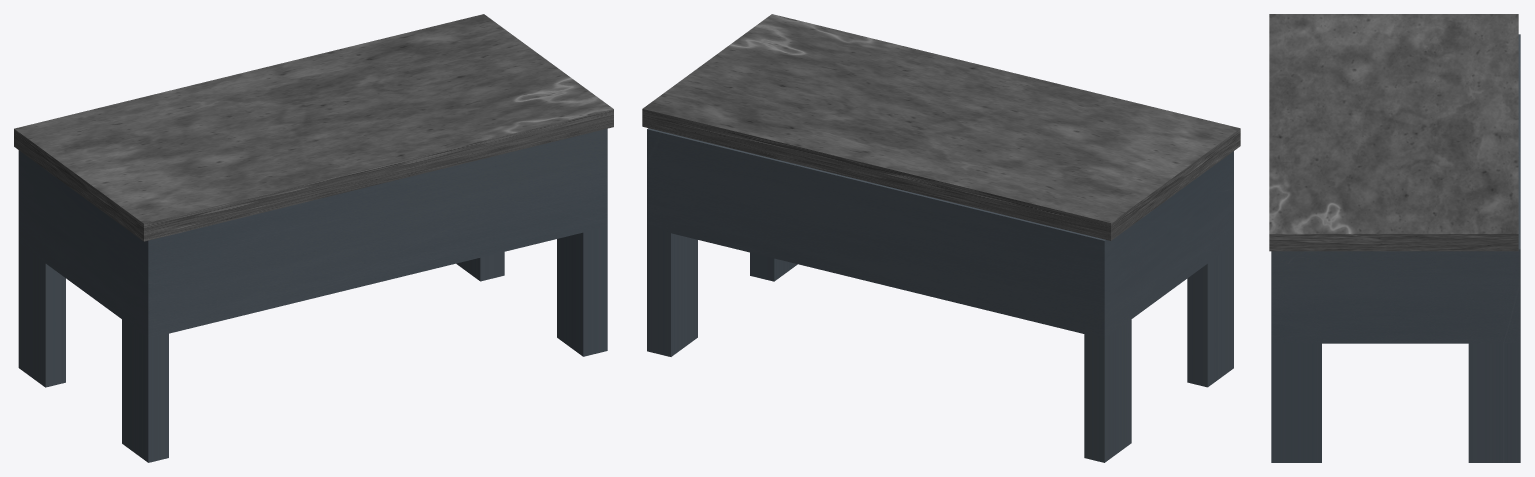
Rendered from comal-memelas.glb.
3 renders of one model, left to right at view 1: azimuth 30°, elevation 25°; view 2: azimuth 150°, elevation 25°; view 3: azimuth 270°, elevation 25°, orthographic. The views are drawn at different scales.
Visible parts, largest first — view 1: Cube.001; view 2: Cube.001; view 3: Cube.001.
Part boxes in pixels (left/top/right/bottom): Cube.001: left=14, top=14, right=613, bottom=462; Cube.001: left=642, top=14, right=1240, bottom=462; Cube.001: left=1269, top=14, right=1520, bottom=462.
Size of the model in its own units: 4.18 by 2.05 by 2.01.
Materials: 2 (2 with a texture image).
